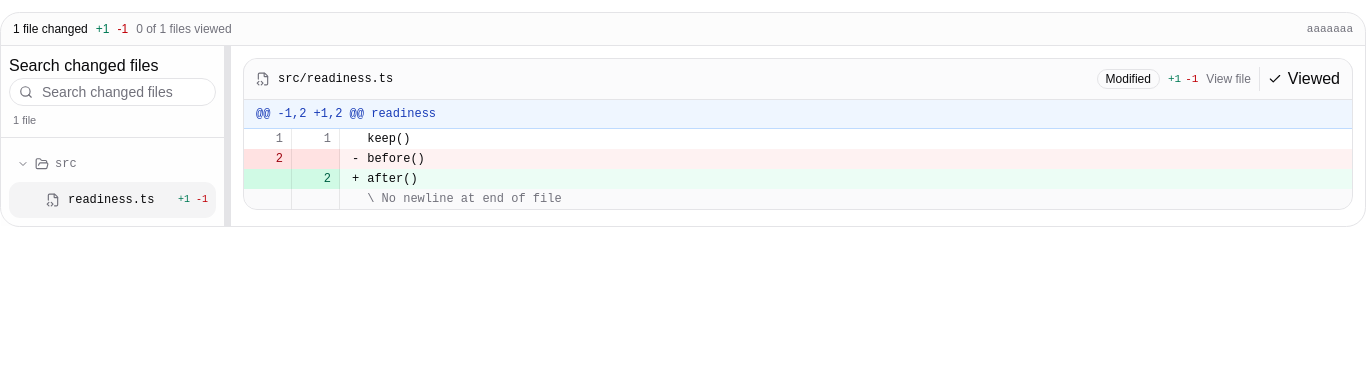
PullDiff › maps a single LEFT line without range fields
Click the button named "Give Claude feedback on old line 2": (268, 159) top-left (244, 149), bottom-right (292, 169)
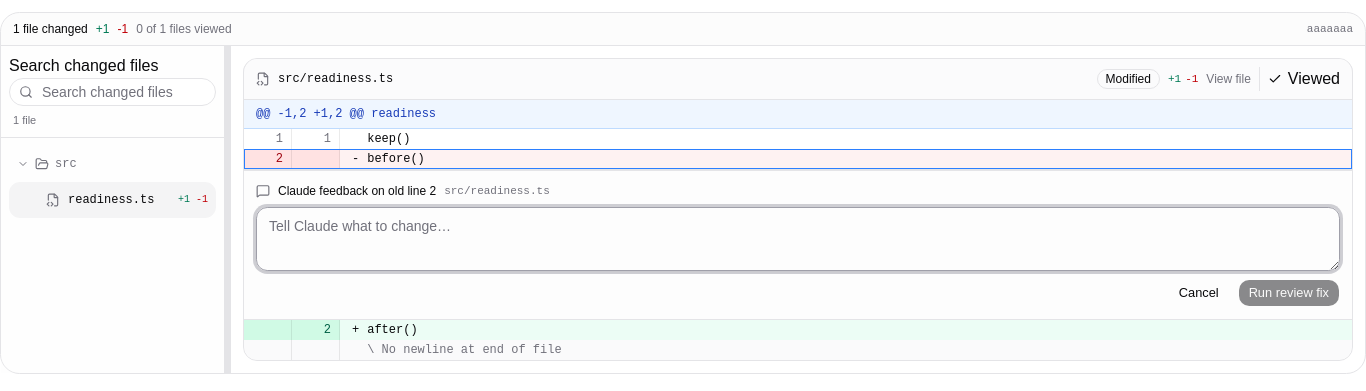
In the text box: (798, 239) top-left (256, 207), bottom-right (1340, 271), type "  Preserve the previous behavior.  "
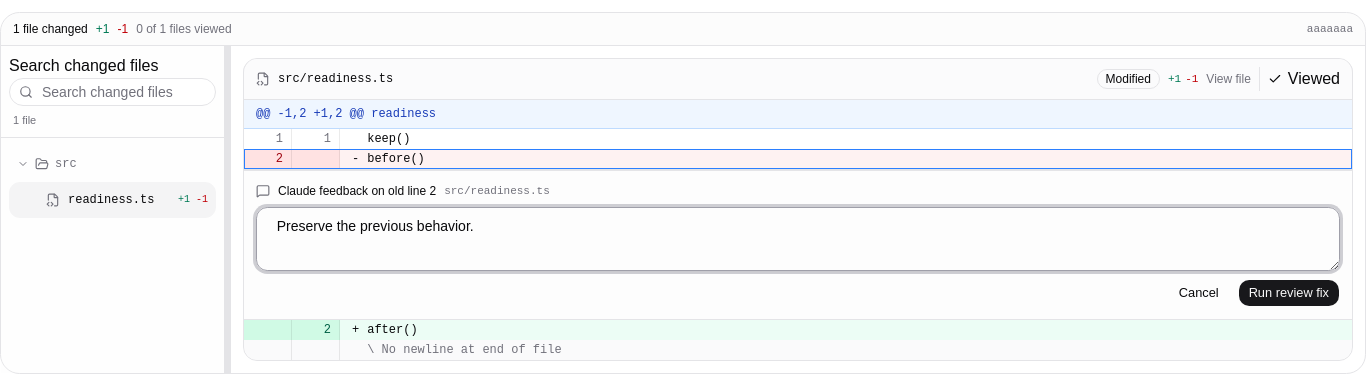
Click the button "Run review fix": (1289, 293) top-left (1238, 279), bottom-right (1340, 307)
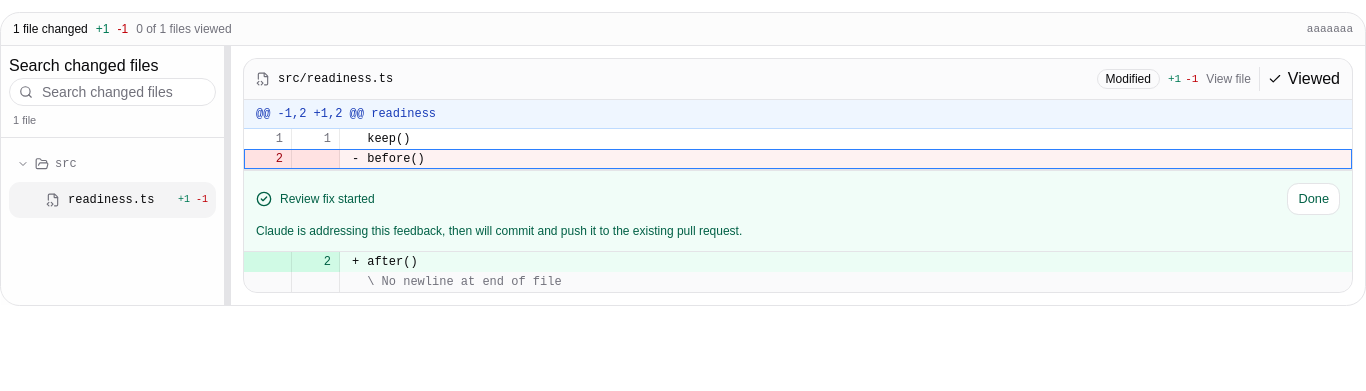
Expected: the text "Review fix started" is shown, top-left (280, 191), bottom-right (375, 207)
